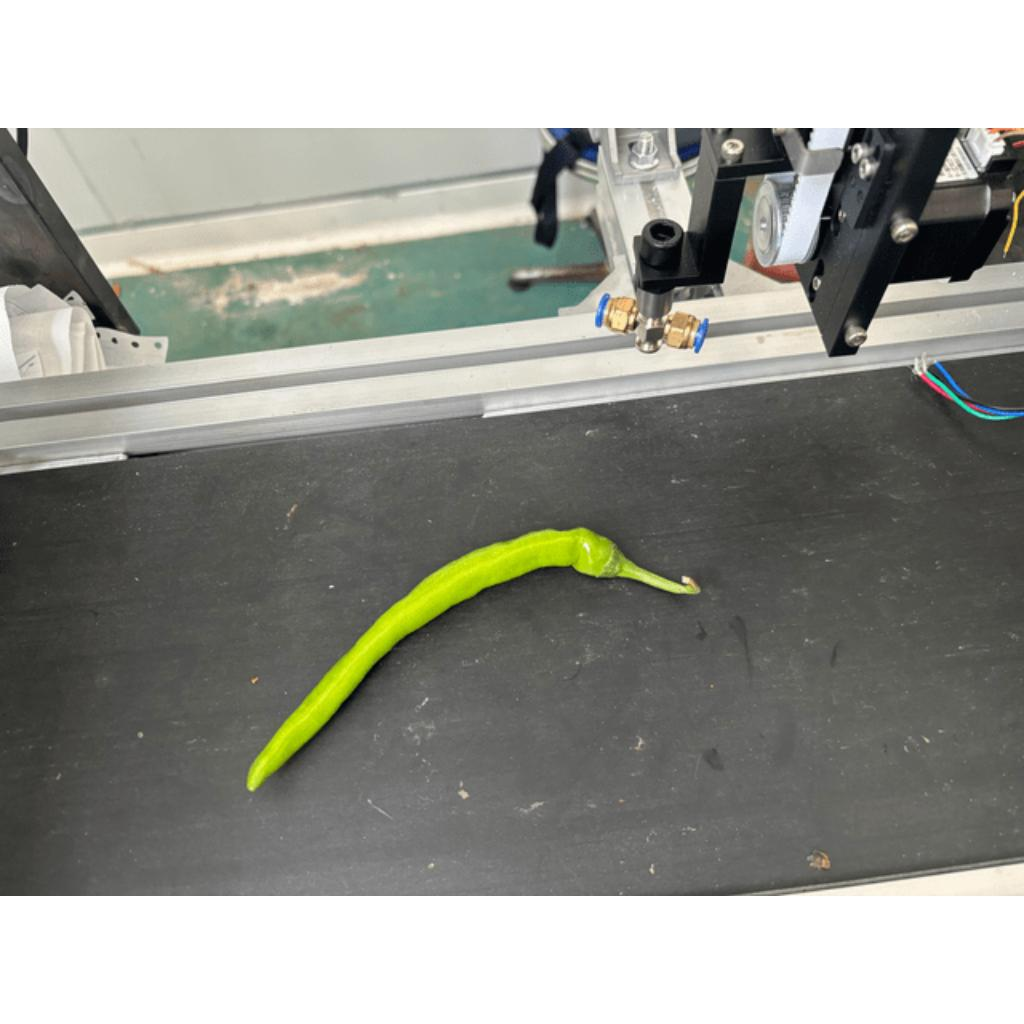chili: (241, 524, 624, 798)
